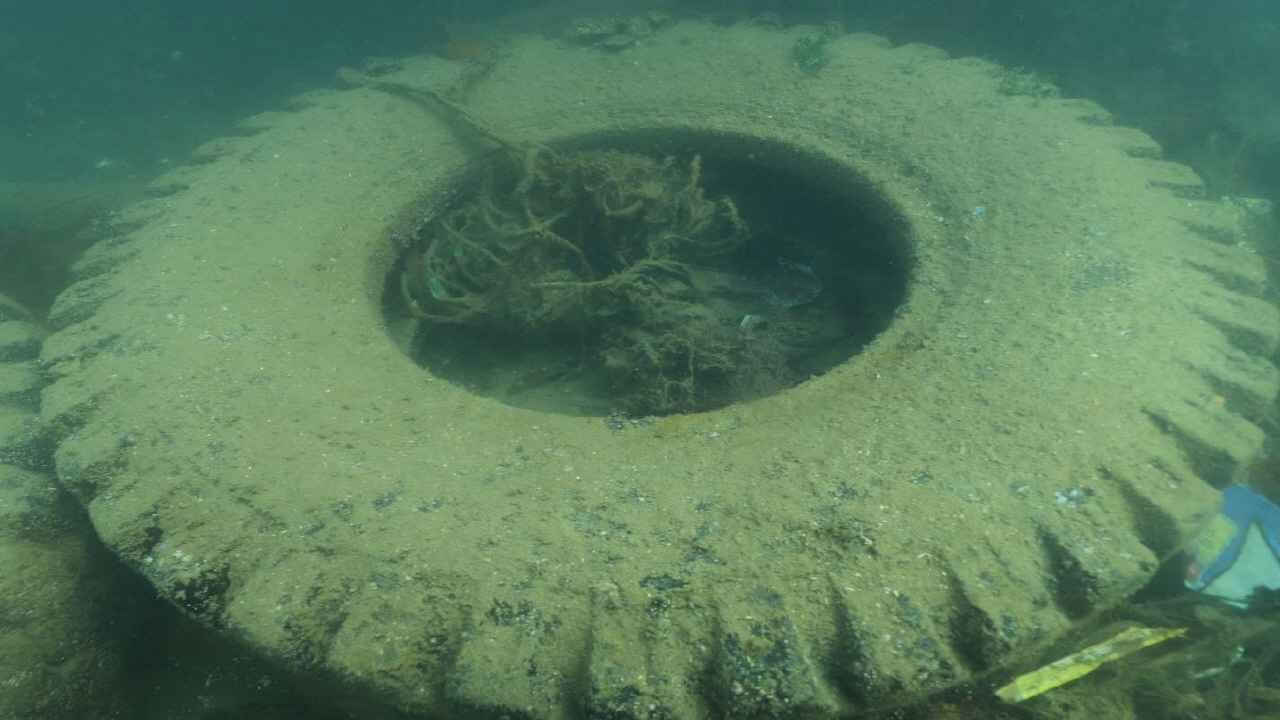bundle of ropes: (353, 65, 701, 325)
tire: (39, 15, 1276, 720)
